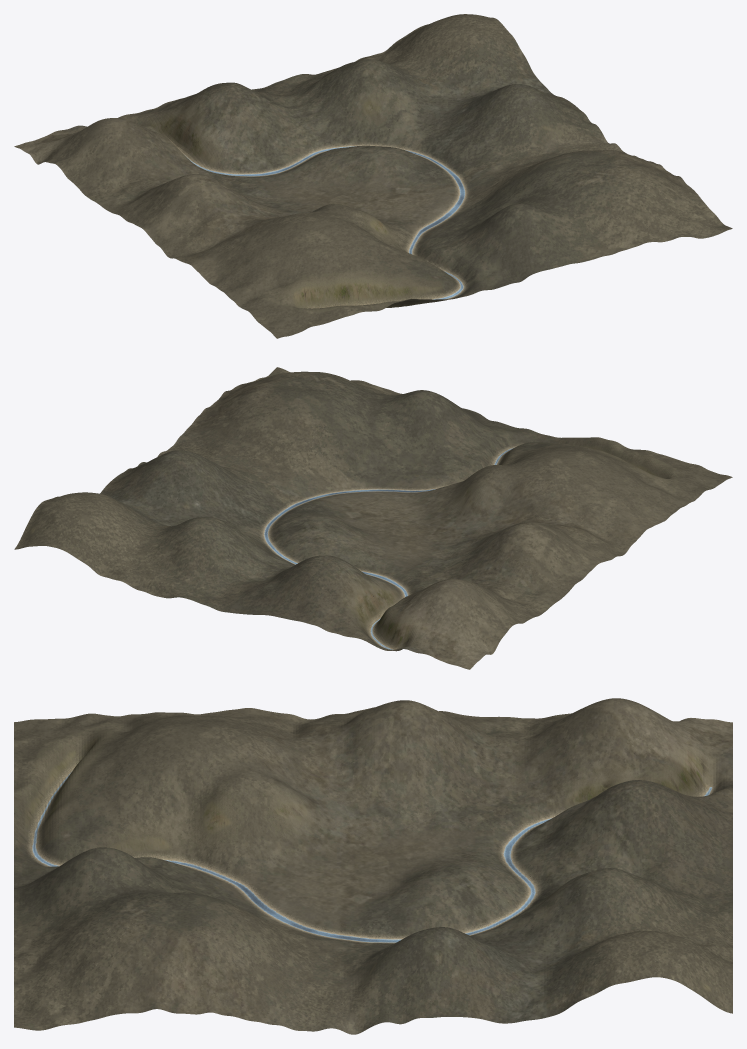
Rendered from terreno 1.fbx.
3 renders of one model, top to bottom at view 1: azimuth 30°, elevation 25°; view 2: azimuth 150°, elevation 25°; view 3: azimuth 270°, elevation 25°, orthographic. The views are drawn at different scales.
Visible parts, largest first — view 1: sub01, sub02; view 2: sub01, sub02; view 3: sub01, sub02.
Boxes of the visible parts, x1,y1,x2,y2 form: sub01: [14, 54, 635, 338]; sub02: [375, 14, 732, 246]; sub01: [109, 378, 732, 669]; sub02: [14, 367, 372, 577]; sub01: [14, 698, 732, 957]; sub02: [14, 903, 732, 1034].
Size of the model in its own units: 120 by 13.39 by 120.
